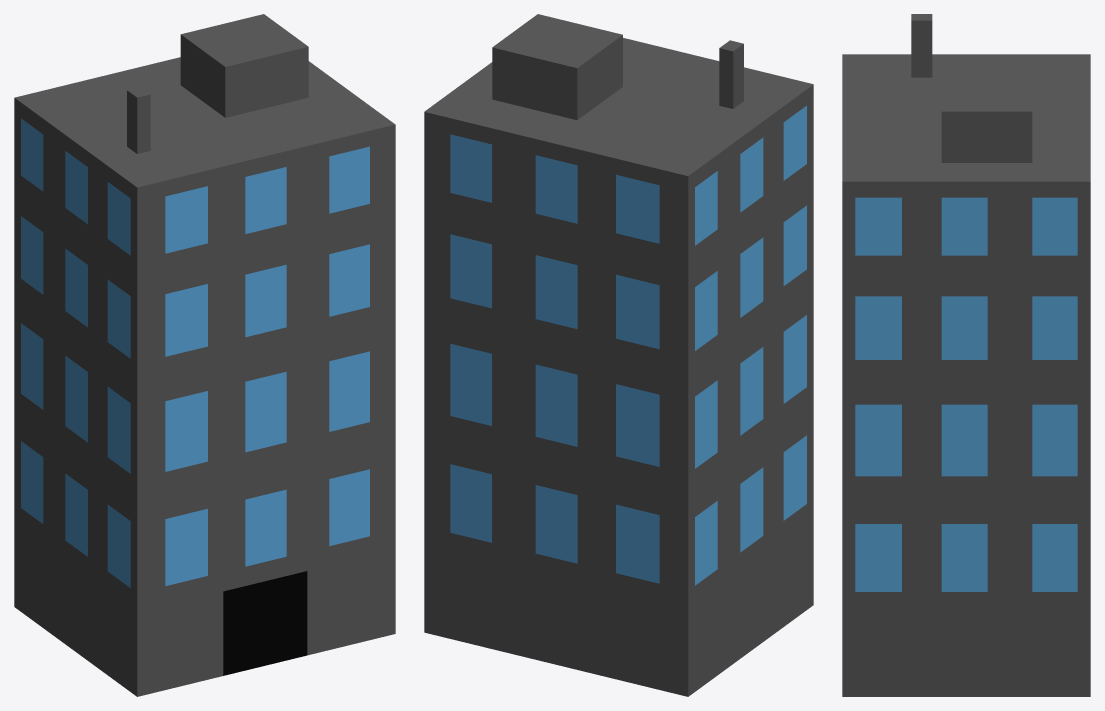
Rendered from CityBuilding.fbx.
The picture shows the model from 3 angles, left to right: view 1: azimuth 30°, elevation 25°; view 2: azimuth 150°, elevation 25°; view 3: azimuth 270°, elevation 25°; orthographic projection. The views are drawn at different scales.
Visible parts, largest first — view 1: Cube; view 2: Cube; view 3: Cube.
Boxes of the visible parts, x1,y1,x2,y2 form: Cube: (14, 14, 395, 696); Cube: (424, 14, 813, 696); Cube: (842, 14, 1090, 696).
Bounding box in the file's own units: 453 × 947 × 373.
